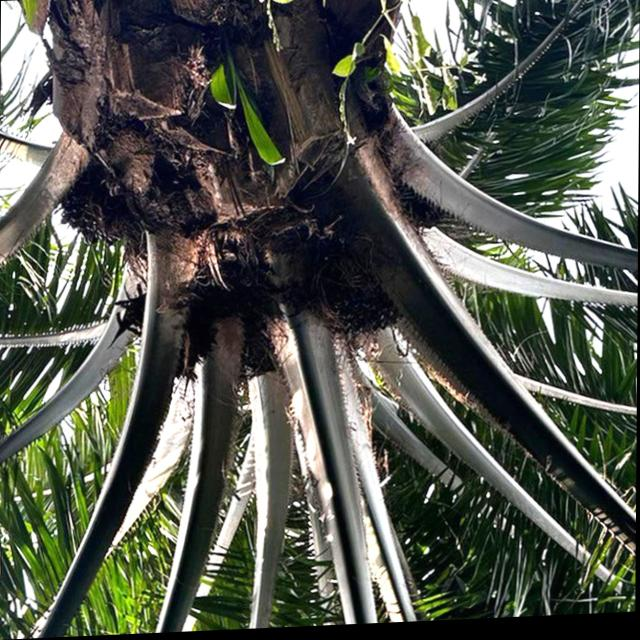unripe: (301, 226, 420, 349), (48, 157, 148, 259)
